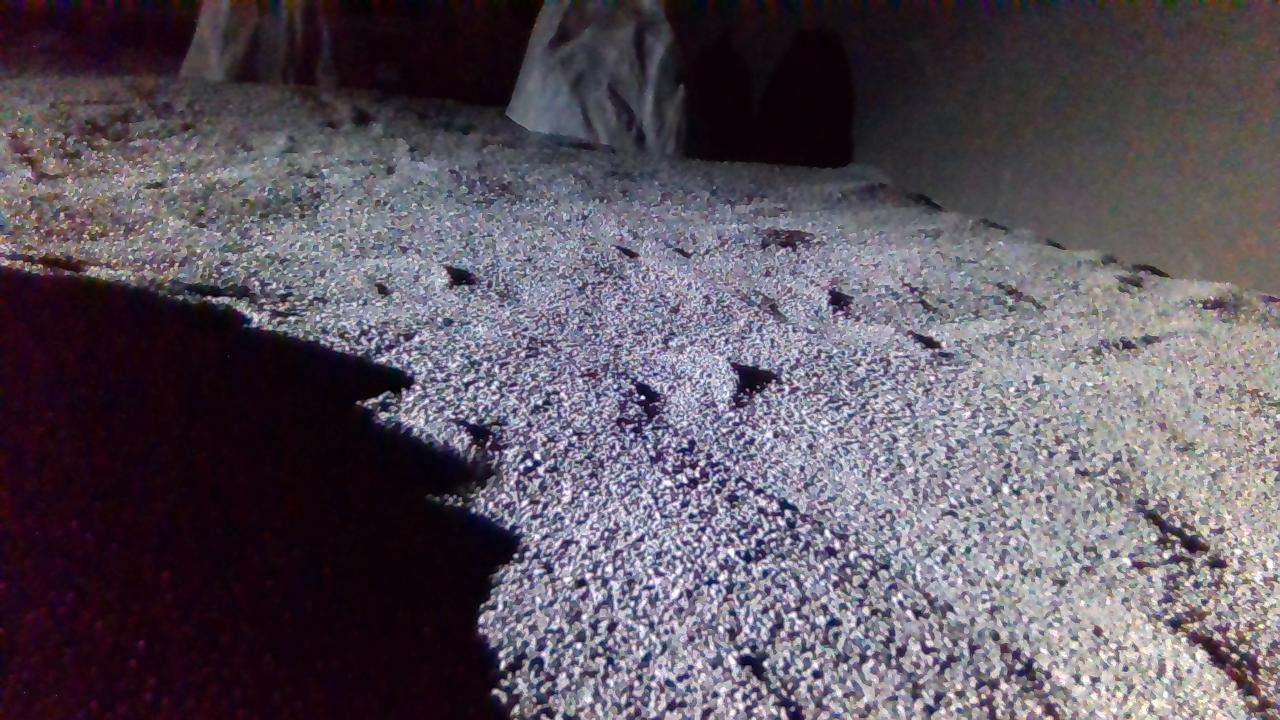rock: (179, 2, 333, 82)
